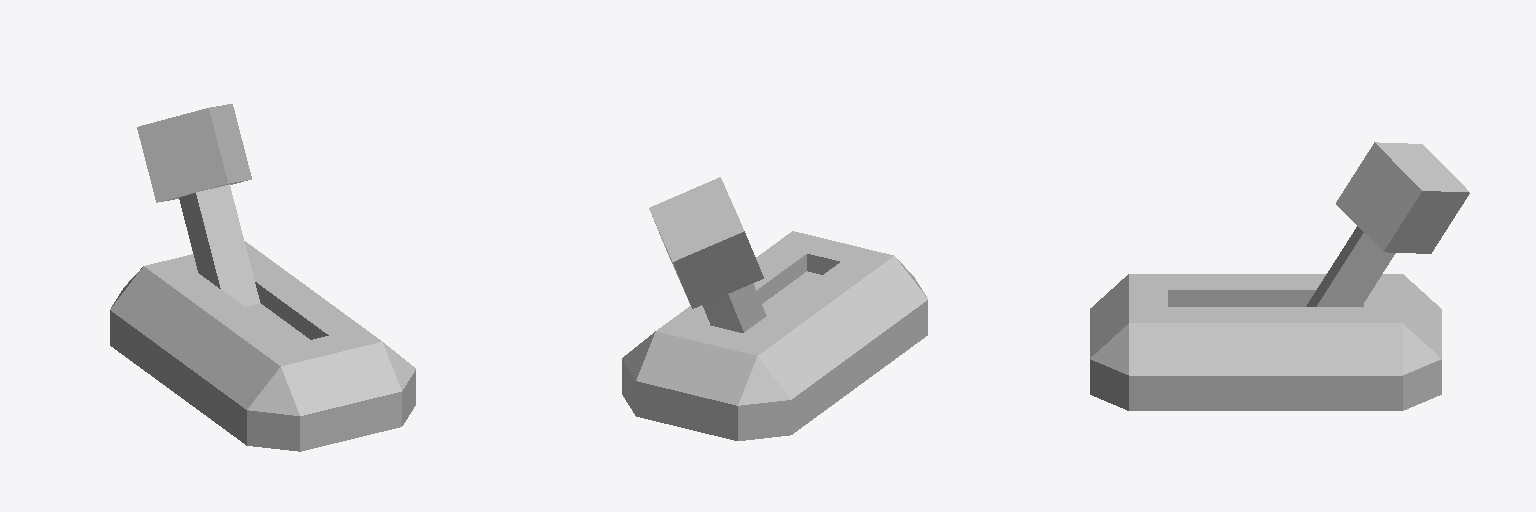
The model's file is lever_2state_0.obj.
3 views of the same model, side by side, from view 1: azimuth 30°, elevation 25°; view 2: azimuth 150°, elevation 25°; view 3: azimuth 270°, elevation 25° (orthographic).
Visible parts, largest first — view 1: 2-STATE_Circle.007, LEVER_Cube.049; view 2: 2-STATE_Circle.007, LEVER_Cube.049; view 3: 2-STATE_Circle.007, LEVER_Cube.049.
Part boxes in pixels (bbox=[...]): 2-STATE_Circle.007: bbox=[110, 241, 415, 451]; LEVER_Cube.049: bbox=[137, 104, 259, 306]; 2-STATE_Circle.007: bbox=[622, 231, 927, 440]; LEVER_Cube.049: bbox=[649, 177, 766, 332]; 2-STATE_Circle.007: bbox=[1090, 274, 1441, 410]; LEVER_Cube.049: bbox=[1306, 142, 1469, 306].
Size of the model in its own units: 0.3125 by 0.4002 by 0.6078.